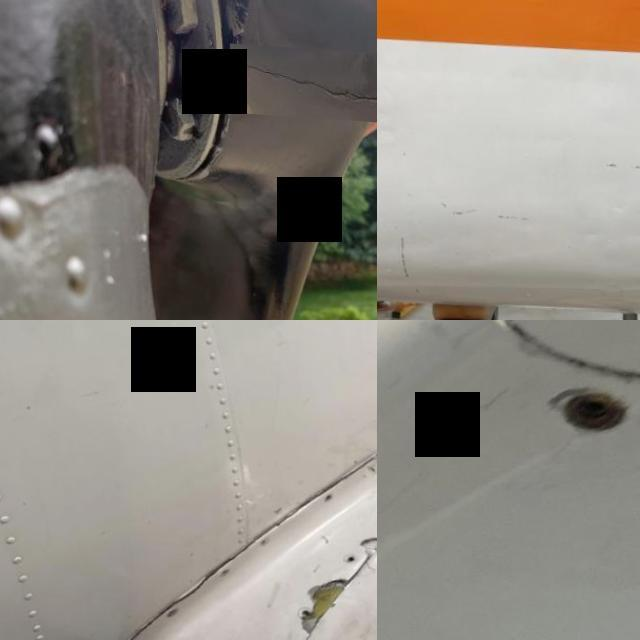Crack: (229, 39, 377, 117), (138, 552, 218, 622), (356, 521, 377, 549)
Dent: (576, 223, 606, 238), (611, 195, 629, 210)
Missing_Fastener: (553, 383, 637, 432), (347, 546, 361, 556), (220, 563, 234, 573), (366, 458, 377, 466), (325, 486, 335, 494)
